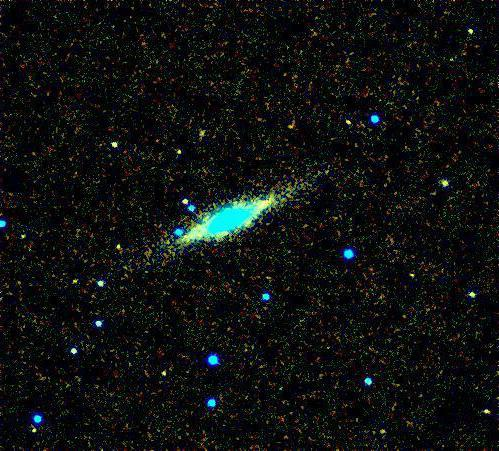star: (171, 188, 201, 218)
